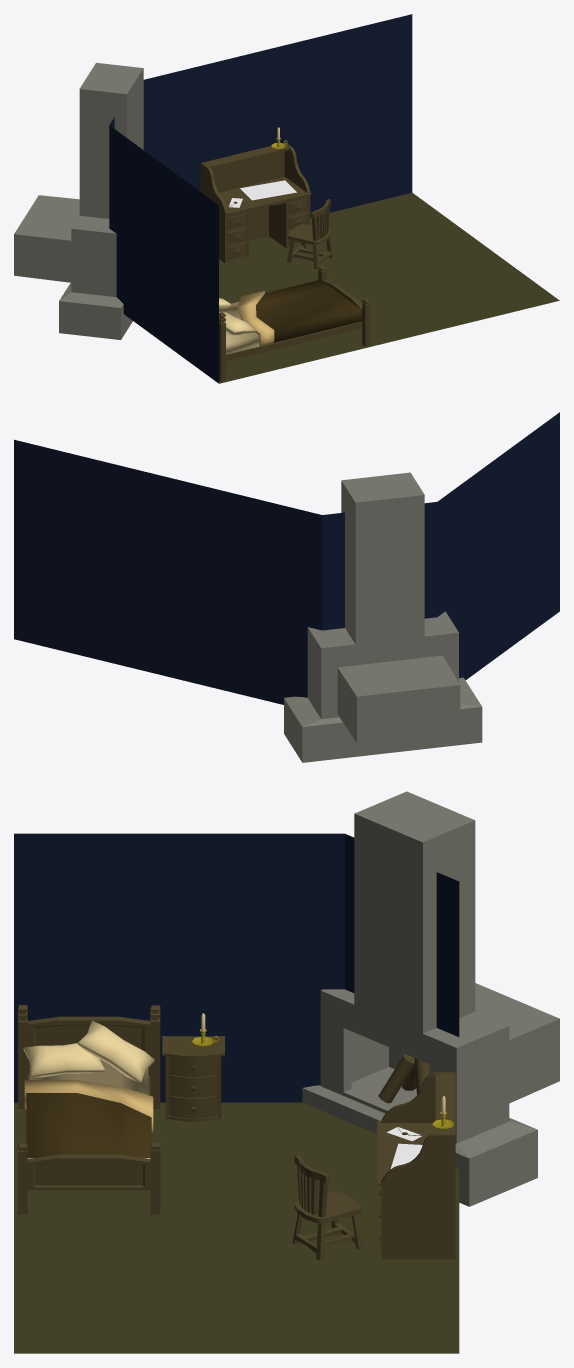
Rendered from Bedroom.fbx.
3 renders of one model, top to bottom at view 1: azimuth 30°, elevation 25°; view 2: azimuth 150°, elevation 25°; view 3: azimuth 270°, elevation 25°, orthographic. The views are drawn at different scales.
Parts seen in each view (by area): view 1: Walls/Floor, Fireplace, Desk, Mattress, Bedframe, Chair, Map; view 2: Walls/Floor, Fireplace; view 3: Walls/Floor, Fireplace, Desk, Bedframe, Mattress, Nightstand, Chair, Pillow, Pillow.001, Logs.
Boxes of the visible parts, x1,y1,x2,y2 form: Walls/Floor: (109, 14, 559, 383); Fireplace: (14, 62, 143, 339); Desk: (200, 142, 311, 263); Mattress: (222, 279, 361, 354); Bedframe: (219, 266, 369, 381); Chair: (287, 199, 332, 269); Map: (240, 180, 296, 200); Walls/Floor: (14, 412, 559, 704); Fireplace: (284, 472, 482, 762); Walls/Floor: (14, 833, 459, 1353); Fireplace: (302, 791, 559, 1206); Desk: (377, 1072, 455, 1259); Bedframe: (18, 1005, 160, 1214); Mattress: (24, 1059, 153, 1158); Nightstand: (162, 1036, 224, 1121); Chair: (292, 1155, 363, 1260); Pillow: (77, 1020, 154, 1082); Pillow.001: (23, 1043, 104, 1077); Logs: (378, 1054, 430, 1103).
Bounding box in the file's own units: 571 × 306 × 449.
